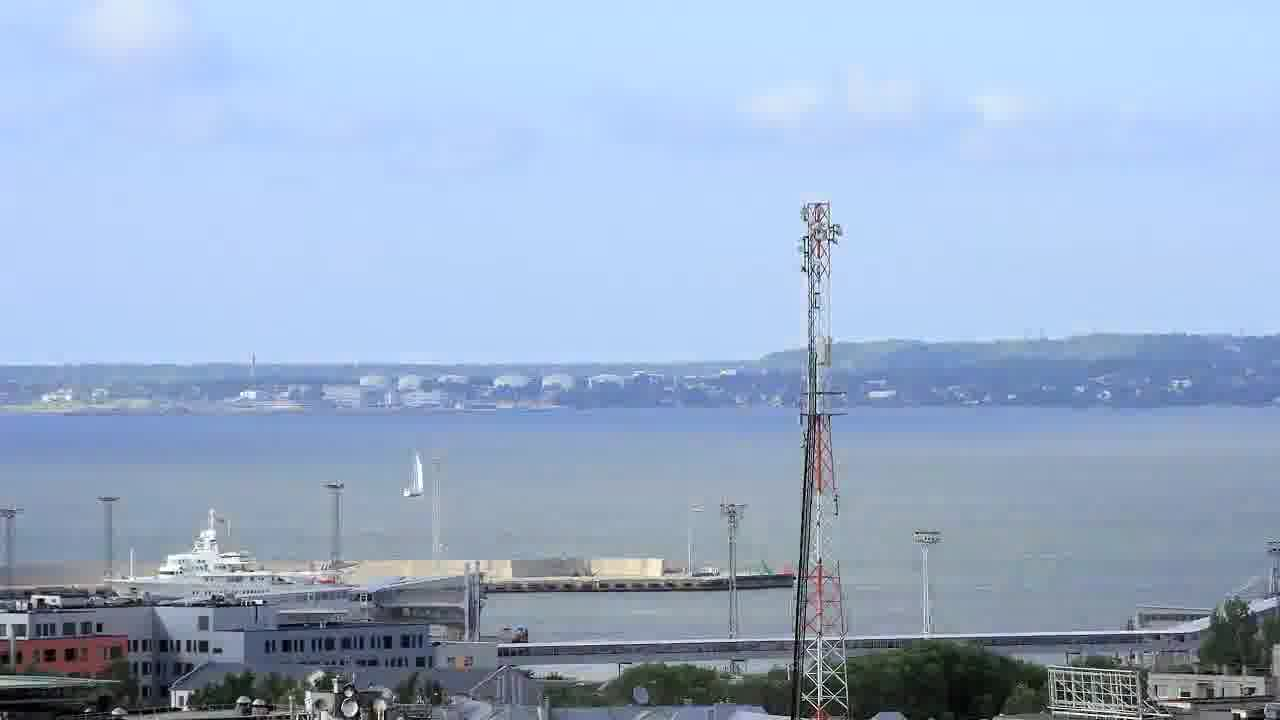type-2: (387, 444, 442, 512)
type-3: (84, 515, 355, 603)
